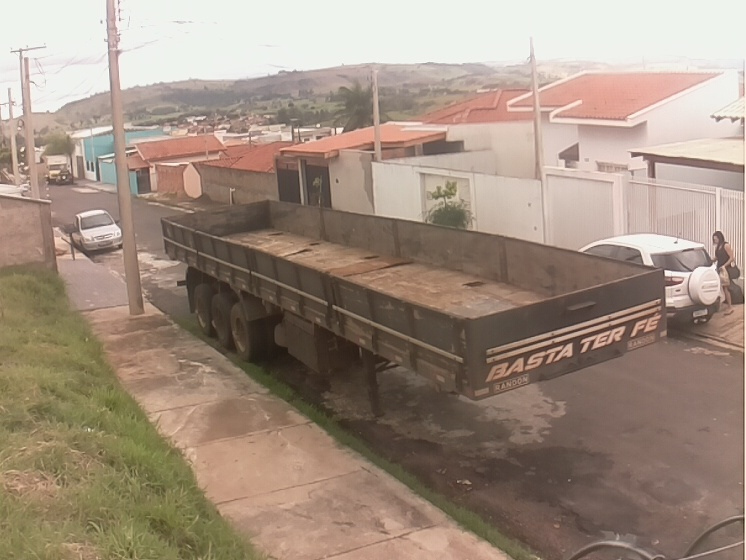person: (709, 230, 739, 316)
